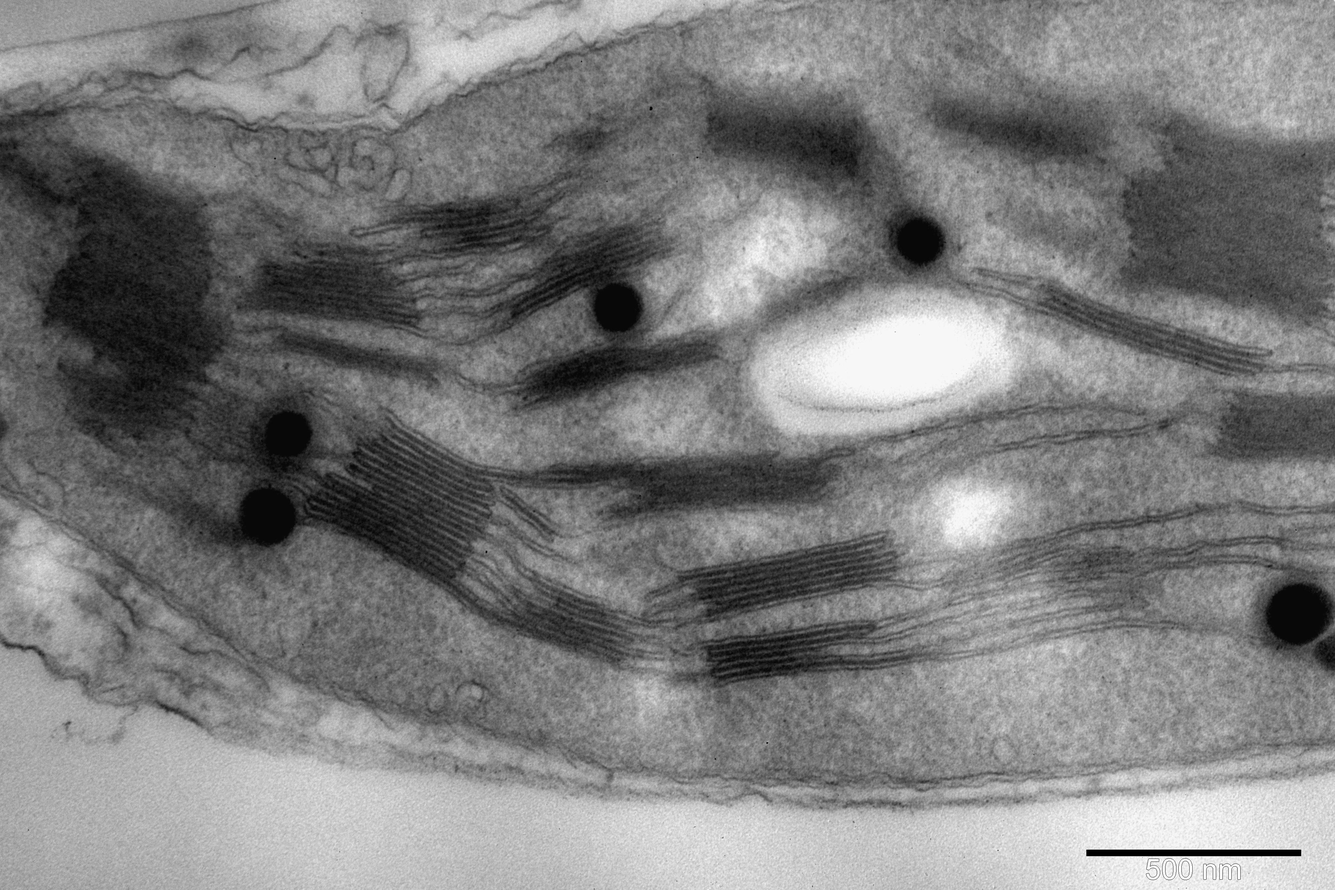granum: (31, 148, 241, 445), (1121, 110, 1335, 327), (298, 401, 498, 592), (529, 448, 834, 537), (1025, 276, 1274, 384), (678, 526, 900, 625), (506, 216, 676, 328), (511, 334, 725, 416), (239, 238, 419, 335), (479, 562, 632, 666), (929, 96, 1116, 168), (702, 101, 874, 178), (700, 617, 876, 689), (408, 181, 554, 261), (1215, 387, 1335, 463), (282, 330, 439, 386)
